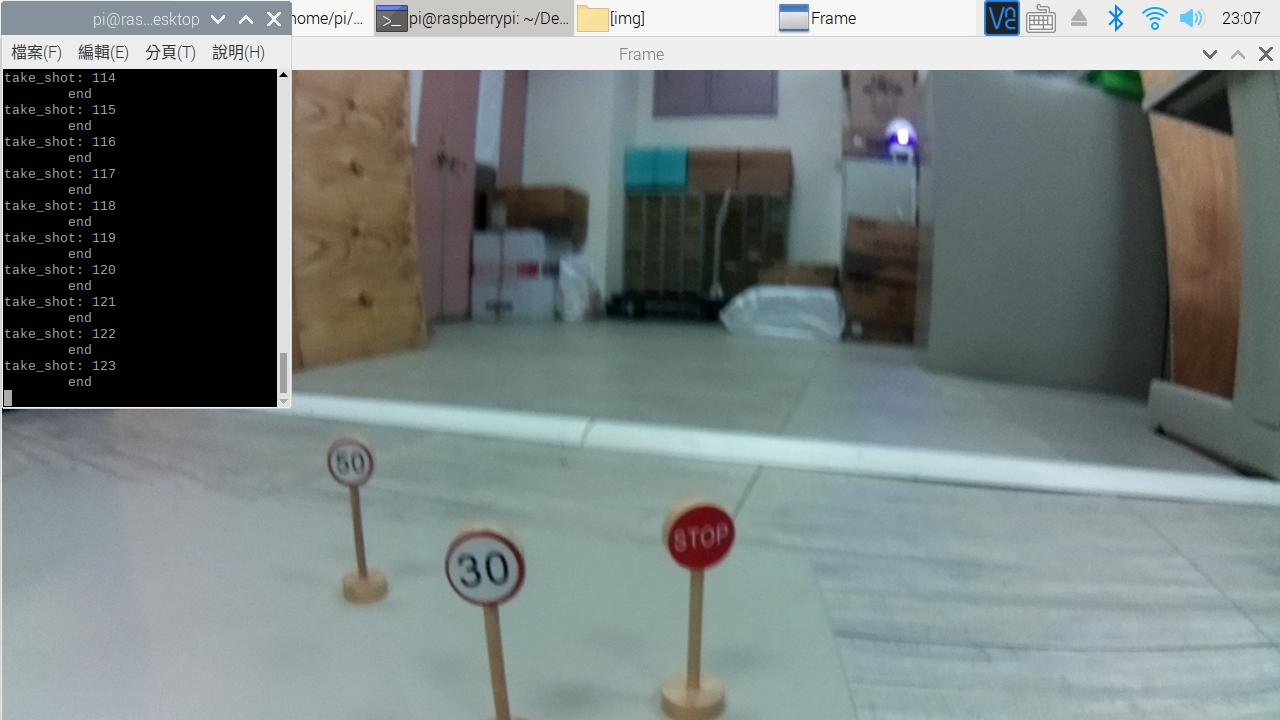Speed30: (434, 530, 542, 622)
Speed50: (318, 429, 377, 505)
Stop: (643, 492, 750, 577)
